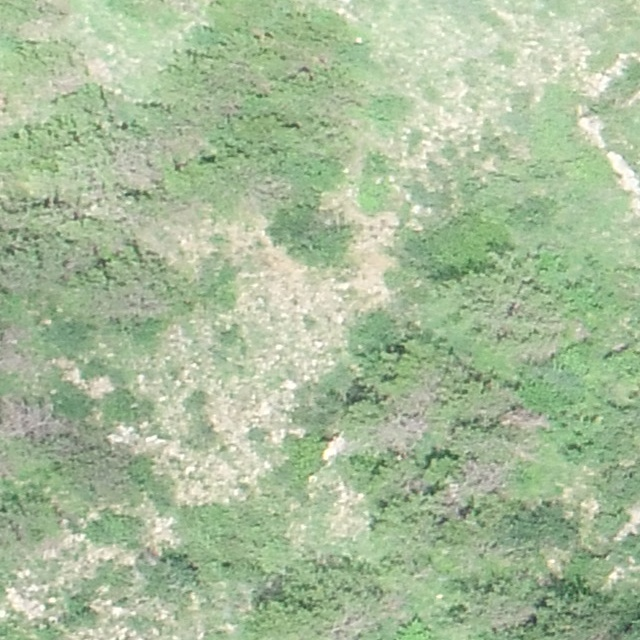unhealthy: (373, 386, 434, 454), (0, 395, 70, 440), (113, 144, 159, 191), (460, 458, 507, 494), (323, 608, 372, 640), (497, 407, 546, 431)
